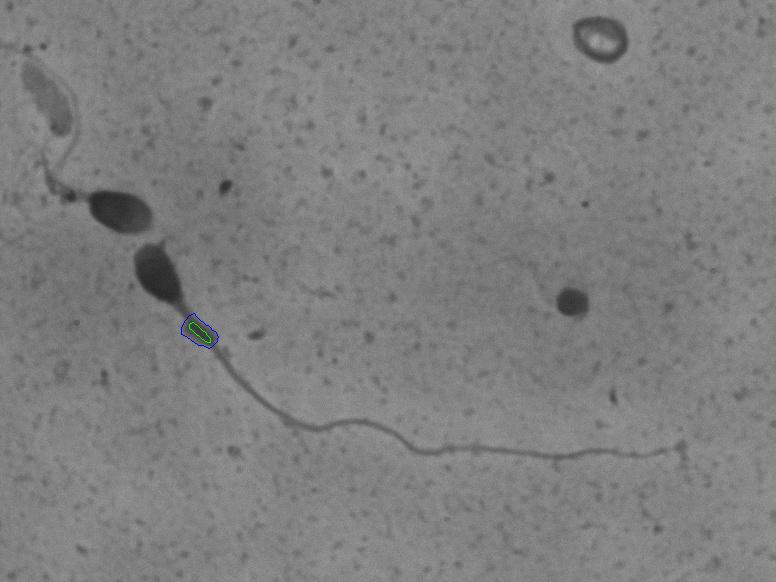Abnormal: (31, 98, 178, 242)
Normal: (118, 234, 694, 500)
